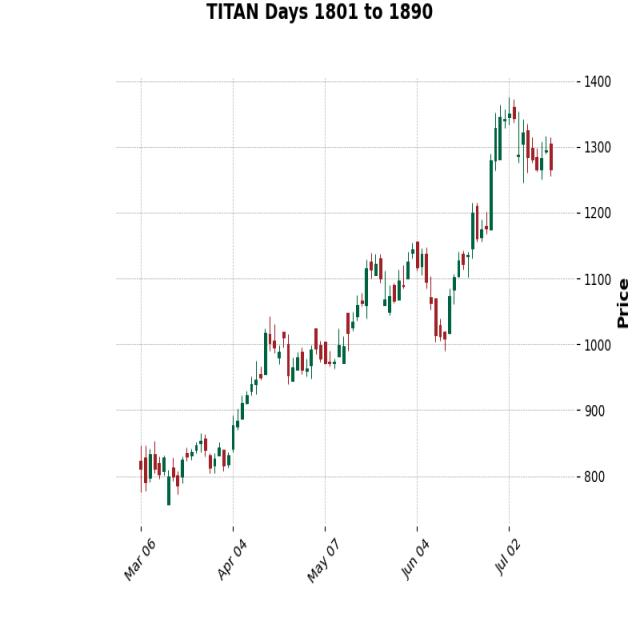Ascending Triangle: (427, 72, 565, 341)
